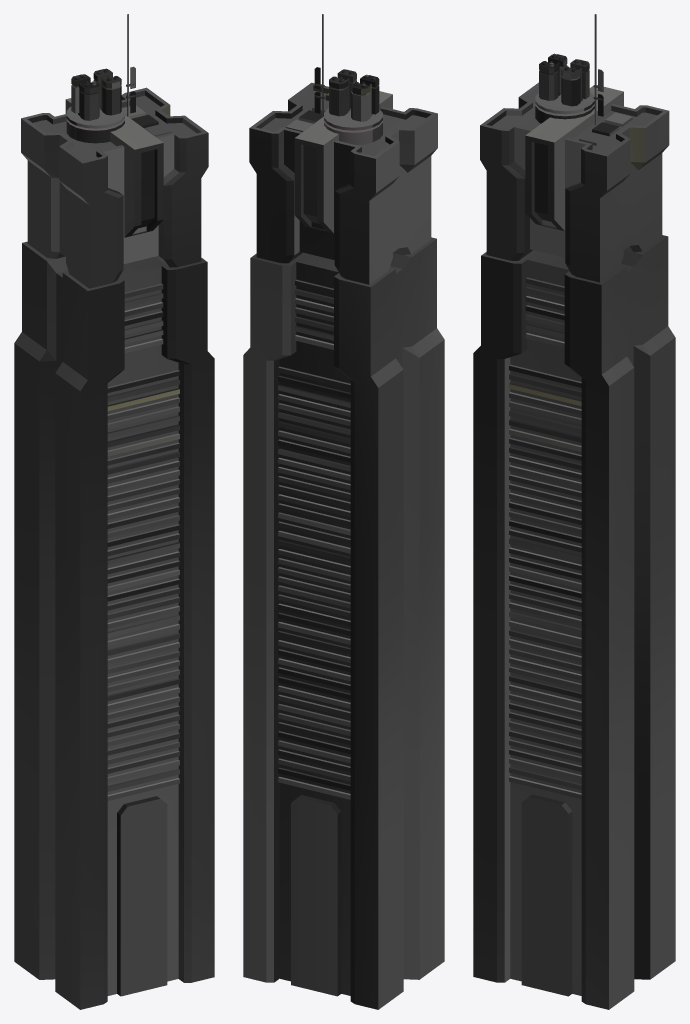
The model's file is sky01.FBX.
3 views of the same model, side by side, from view 1: azimuth 30°, elevation 25°; view 2: azimuth 150°, elevation 25°; view 3: azimuth 330°, elevation 25° (orthographic).
Parts seen in each view (by area): view 1: S10; view 2: S10; view 3: S10.
Boxes of the visible parts, <box> form: S10: <box>14,14,214,1009</box>; S10: <box>243,14,444,1009</box>; S10: <box>473,14,675,1009</box>.
Size of the model in its own units: 31.07 by 210 by 27.66.
